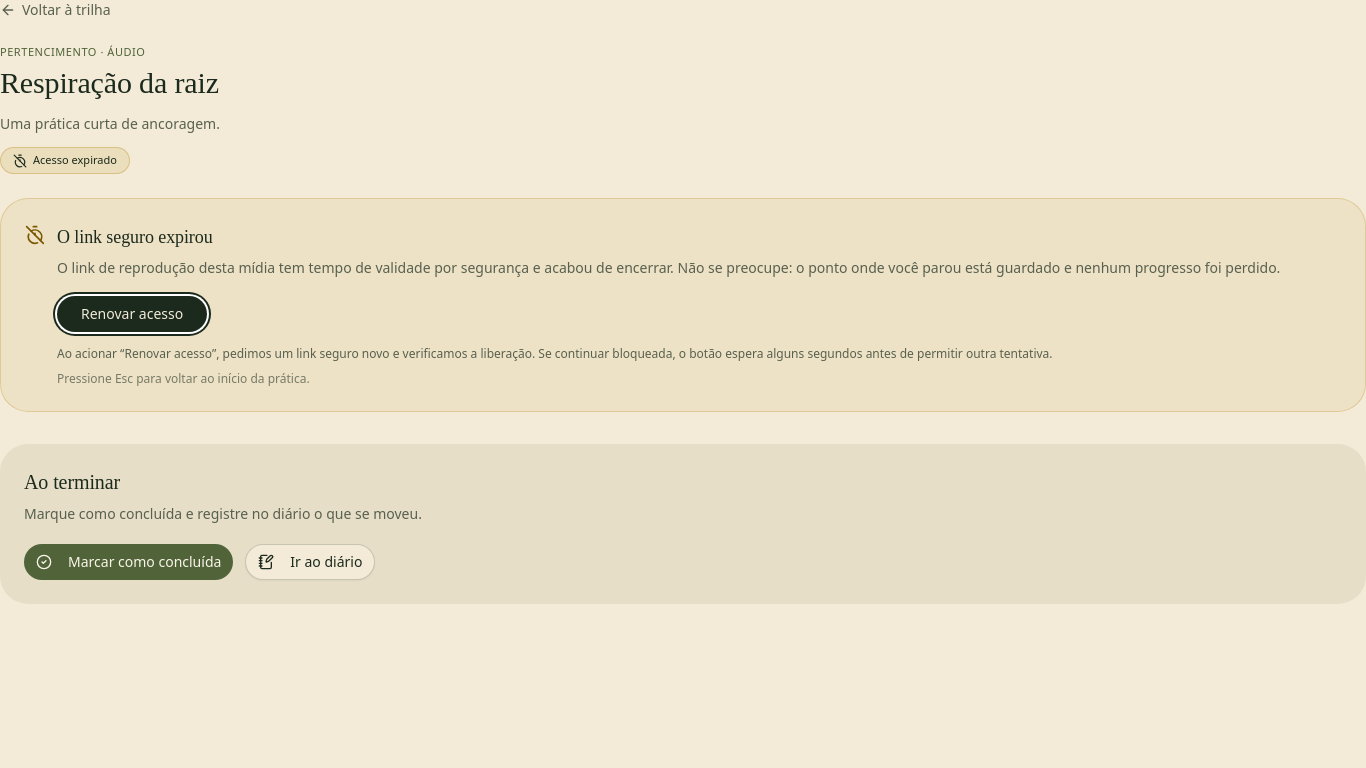
Test: botão Renovar acesso › mídia revogada: falha consistente, botão em espera e nenhuma nova busca
This screenshot has width=1366, height=768.
Later steps or results of the test are not shown.
Check: the heading "O link seguro expirou" is shown, box [57, 227, 213, 247]
What coordinates should you click on to do the following:
click the button "Renovar acesso"
I would click on:
 (132, 314)
Its box is [57, 296, 207, 332].
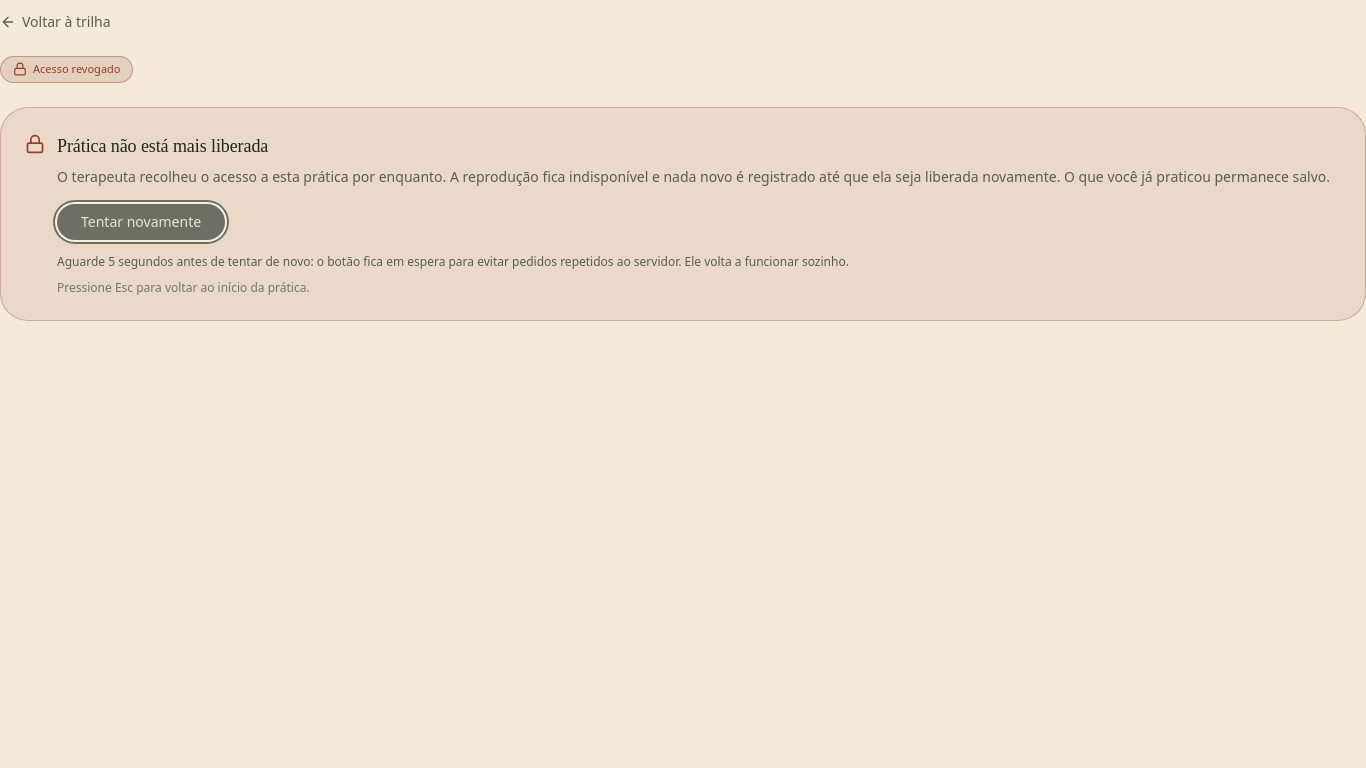
Check: the heading "Prática não está mais liberada" is shown, box [57, 136, 268, 156]
